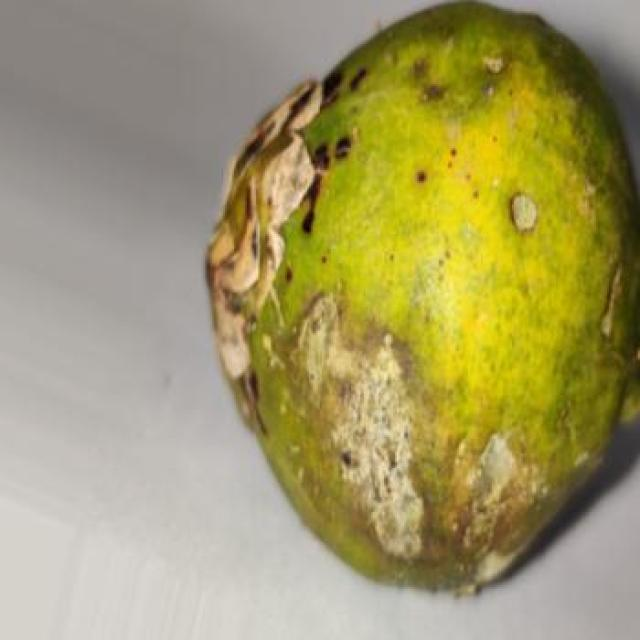damaged: (203, 2, 638, 600)
